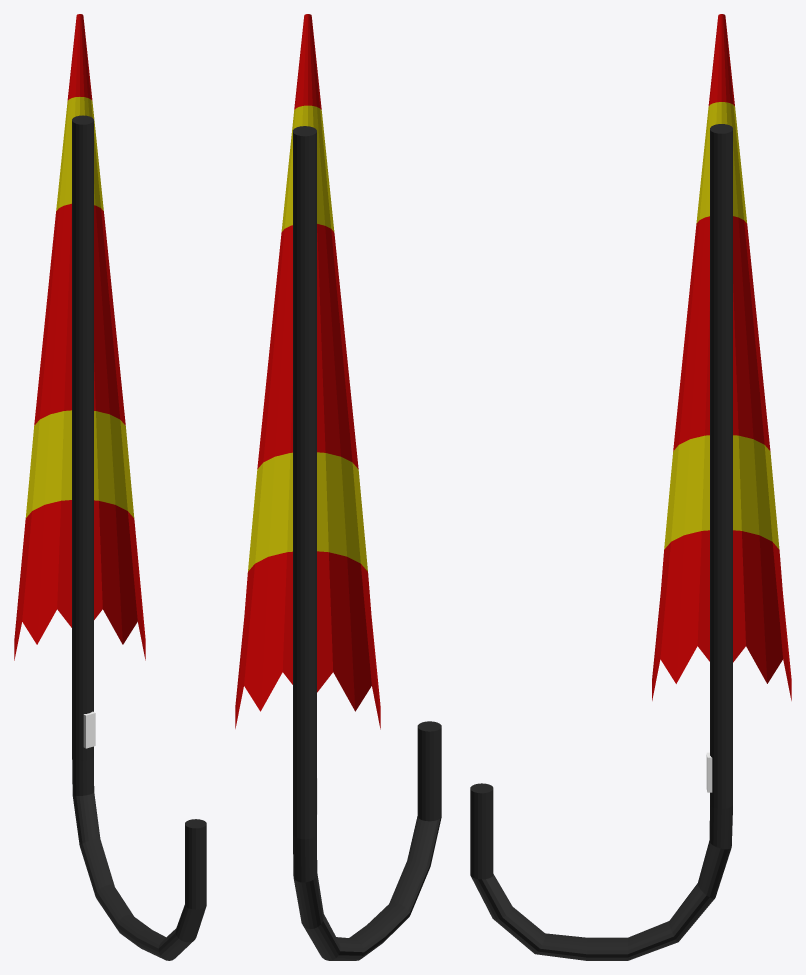
File: c8acd7d5-d438-48bd-9a6d-cae61f1e6501.glb
3 renders of one model, left to right at view 1: azimuth 30°, elevation 25°; view 2: azimuth 150°, elevation 25°; view 3: azimuth 270°, elevation 25°, orthographic. The views are drawn at different scales.
Parts seen in each view (by area): view 1: Cylinder003, Cylinder004, Box002; view 2: Cylinder003, Cylinder004; view 3: Cylinder003, Cylinder004.
Part boxes in pixels (x1,y1,x2,y2): Cylinder003: (14, 14, 145, 660); Cylinder004: (72, 115, 206, 960); Box002: (83, 711, 95, 748); Cylinder003: (235, 14, 380, 729); Cylinder004: (293, 126, 441, 960); Cylinder003: (652, 14, 791, 700); Cylinder004: (470, 124, 732, 960).
Size of the model in its own units: 16112 by 118242 by 36516.
